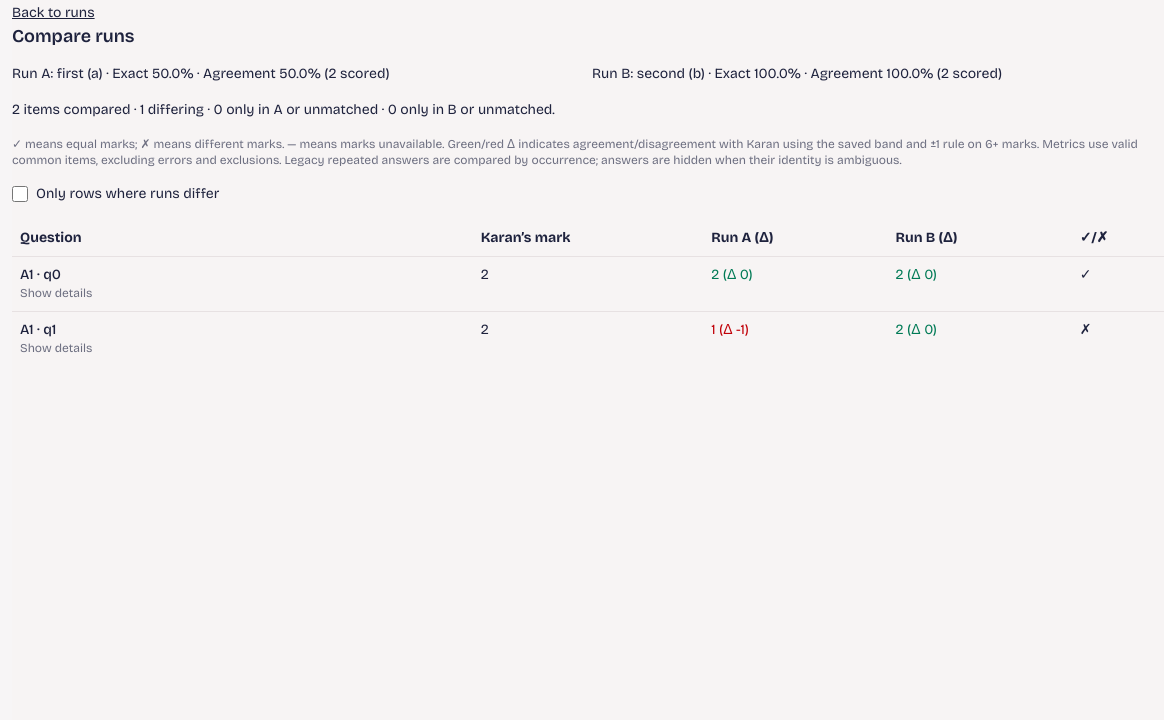
Test: renders saved annotated comments over each run's answer read-only
This screenshot has width=1164, height=720.
Click the button with aria-label "Expand A1 q0" at (56, 293), box [20,265,465,301]
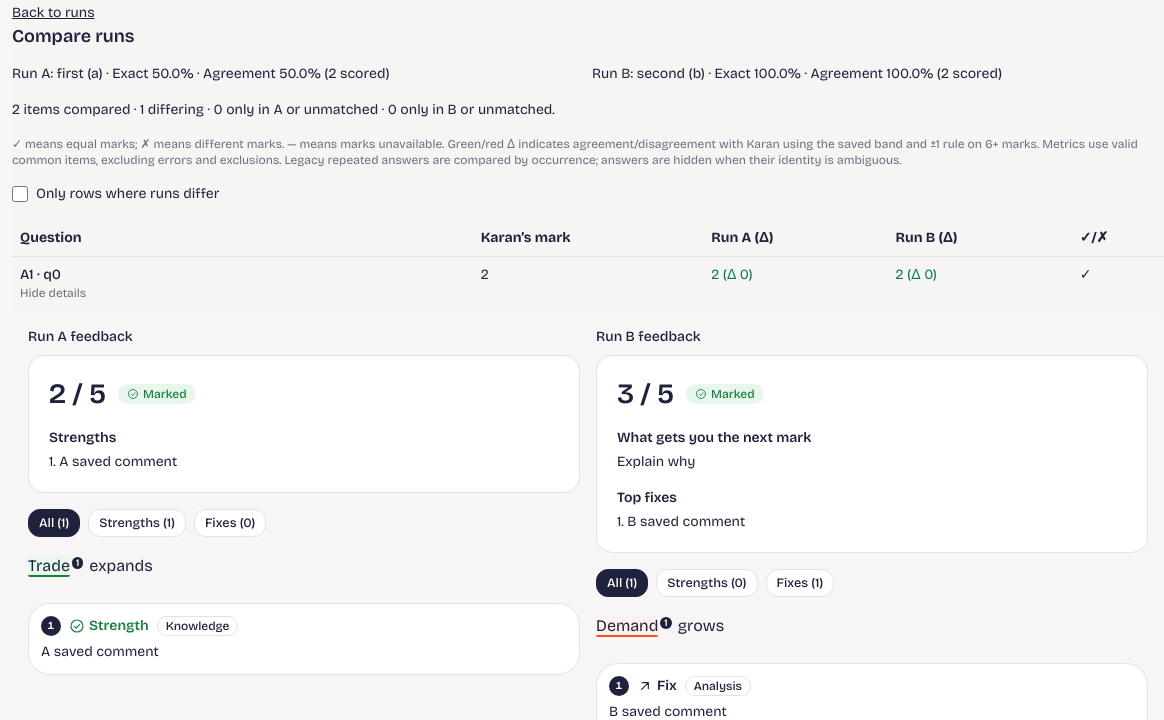
Expected: the button "Trade" is shown, [28,556,70,577]
Expected: the button "Demand" is shown, [596,616,658,637]
